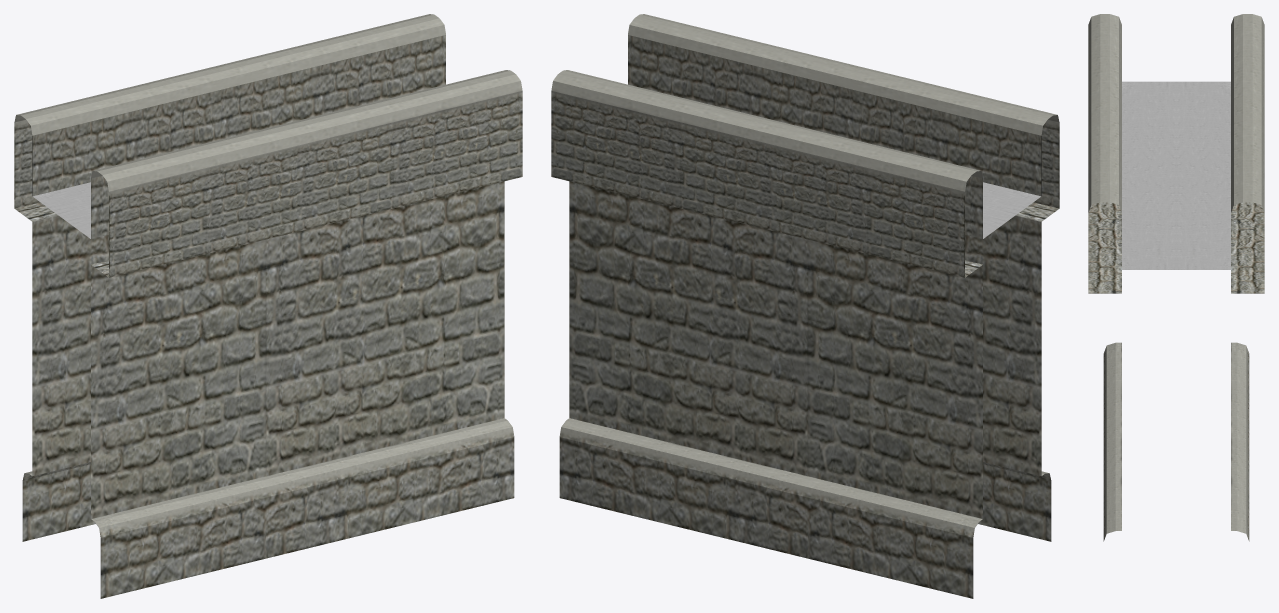
The model's file is wall_section.FBX.
3 renders of one model, left to right at view 1: azimuth 30°, elevation 25°; view 2: azimuth 150°, elevation 25°; view 3: azimuth 270°, elevation 25°, orthographic. The views are drawn at different scales.
Visible parts, largest first — view 1: Box001; view 2: Box001; view 3: Box001.
Boxes of the visible parts, x1=… form: Box001: x1=14, y1=14, x2=522, y2=598; Box001: x1=551, y1=14, x2=1059, y2=598; Box001: x1=1088, y1=14, x2=1264, y2=541.
Size of the model in its own units: 170 by 167 by 67.26.
